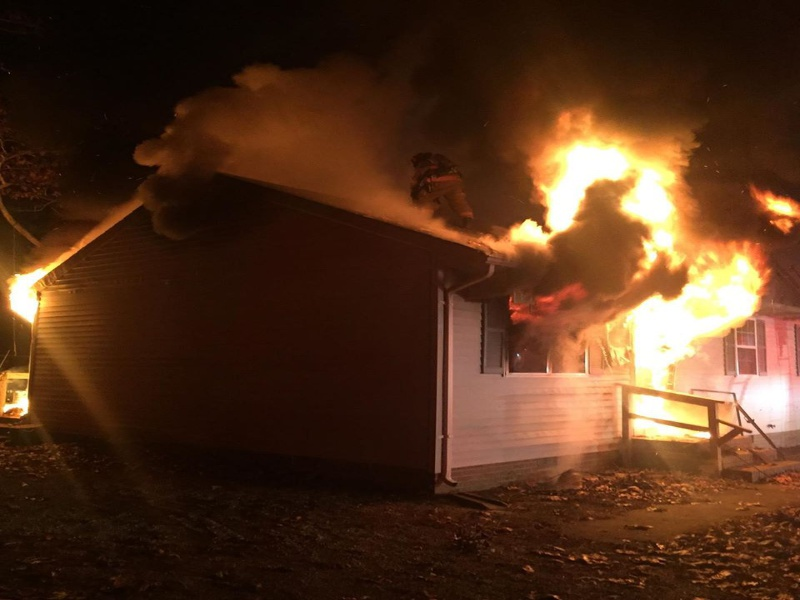fire: (614, 221, 773, 391), (495, 141, 708, 265), (754, 180, 800, 218)
